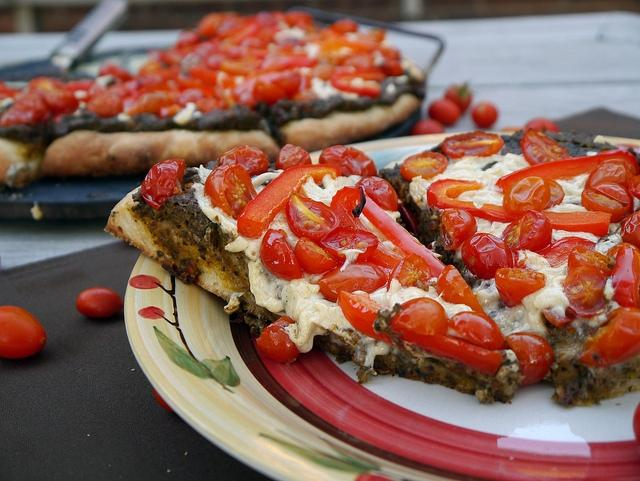bell pepper: (336, 288, 503, 377), (427, 178, 612, 238), (238, 164, 342, 240), (362, 191, 447, 278), (495, 148, 639, 194), (437, 264, 488, 315), (330, 186, 370, 232), (330, 68, 388, 97), (396, 193, 420, 239), (345, 28, 386, 42), (176, 76, 202, 92), (1, 90, 20, 100)
tomato: (362, 196, 448, 278), (231, 66, 312, 110), (576, 312, 638, 367), (204, 162, 258, 220), (338, 290, 393, 346), (317, 261, 389, 302), (504, 331, 555, 386), (390, 296, 448, 344), (437, 264, 488, 316), (286, 192, 339, 242), (0, 305, 48, 359), (461, 233, 514, 280), (140, 158, 186, 210), (447, 310, 505, 350), (260, 228, 304, 280), (317, 225, 377, 263), (500, 210, 553, 252), (581, 182, 634, 224), (494, 267, 546, 308), (564, 265, 608, 312), (318, 144, 378, 178), (256, 316, 300, 362), (534, 236, 597, 268), (159, 30, 217, 64), (502, 176, 551, 215), (0, 90, 53, 126), (520, 128, 570, 166), (441, 130, 505, 159), (294, 236, 339, 275), (612, 246, 640, 308), (388, 253, 432, 292), (219, 144, 268, 178), (585, 158, 636, 190), (439, 208, 476, 250), (356, 176, 398, 212), (76, 287, 124, 318), (399, 152, 448, 182), (100, 78, 142, 112), (567, 245, 613, 276), (124, 90, 178, 116), (260, 56, 318, 75), (216, 14, 258, 40), (366, 240, 403, 269), (86, 90, 123, 118), (428, 97, 462, 127), (45, 89, 79, 119), (444, 81, 472, 116), (275, 144, 312, 170), (345, 28, 386, 48), (620, 210, 640, 250), (28, 78, 65, 98), (228, 23, 260, 46), (544, 179, 566, 210), (472, 103, 498, 129), (410, 118, 446, 136), (174, 74, 205, 94), (522, 116, 560, 132), (99, 64, 132, 82), (176, 87, 203, 108), (342, 52, 376, 68), (61, 78, 95, 92), (284, 12, 312, 28), (380, 58, 404, 76), (204, 53, 227, 70), (266, 51, 308, 60), (280, 36, 306, 50), (255, 27, 277, 43), (312, 64, 334, 80), (197, 98, 220, 113), (138, 60, 162, 74), (140, 72, 166, 84), (157, 105, 179, 117), (379, 48, 401, 60), (202, 70, 216, 87), (188, 66, 206, 79), (334, 66, 356, 73), (208, 36, 222, 44)
